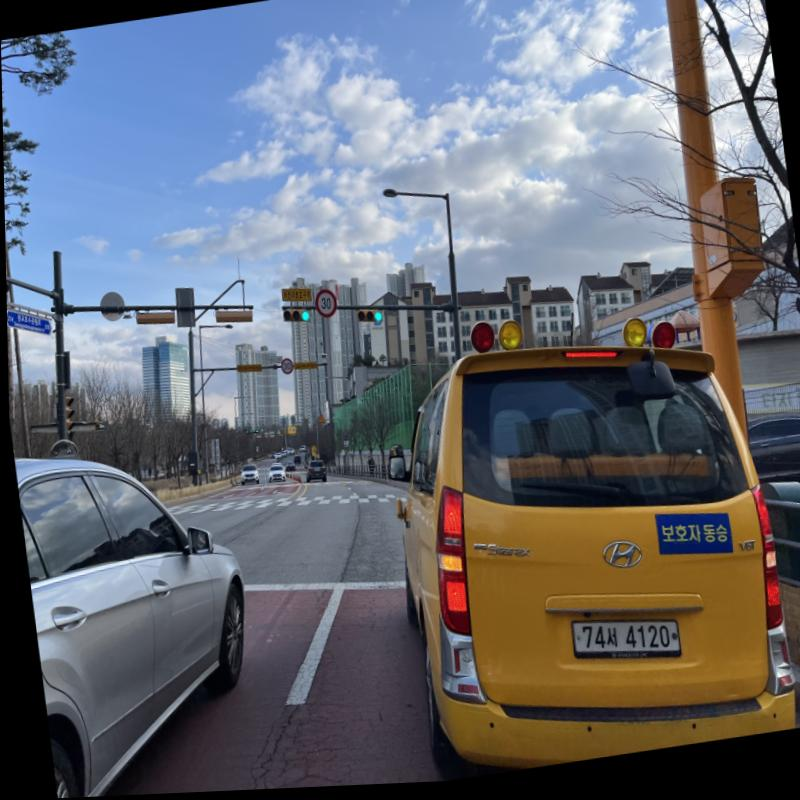green: (372, 313, 381, 324), (300, 313, 308, 323)
